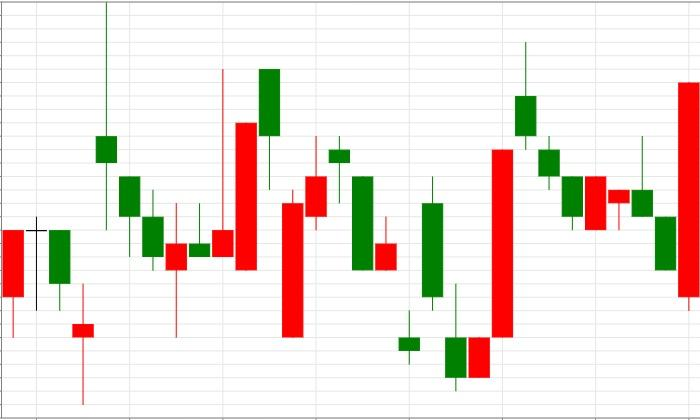bullish_engulfing_rise: (515, 42, 700, 312), (515, 42, 606, 231)
shooting_star_fall: (445, 42, 536, 392)
